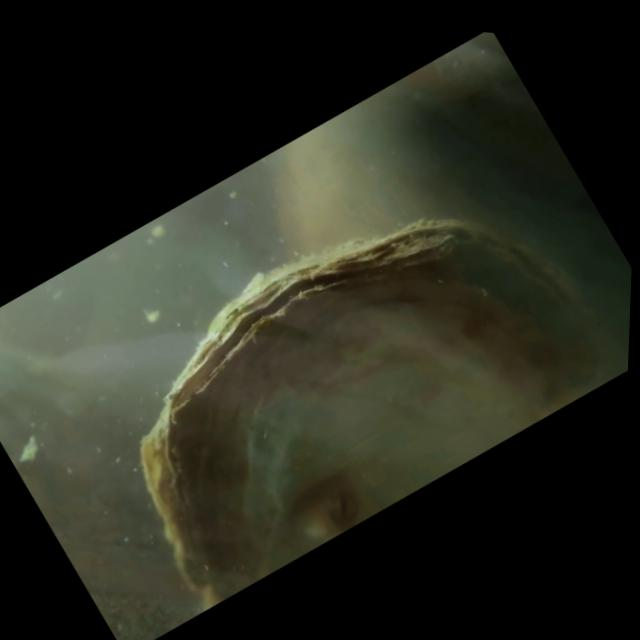Oyster-Closed: (129, 214, 628, 602)
